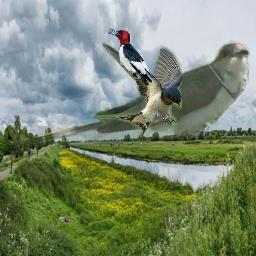Cuckoo: (7, 40, 250, 151)
Swallow: (93, 41, 182, 136)
Woodpecker: (107, 27, 155, 85)
